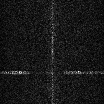wifi: (1, 70, 104, 74)
